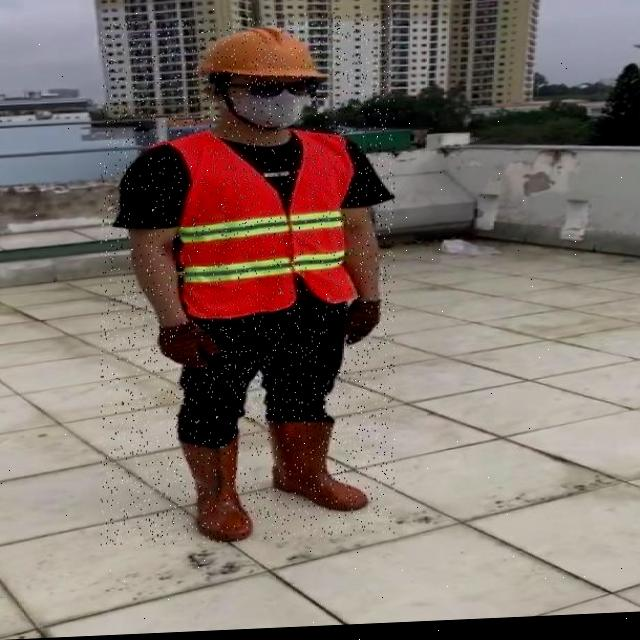Gloves: (159, 320, 223, 373), (344, 301, 382, 348)
Helmet: (200, 25, 330, 87)
Safety-Boot: (270, 415, 369, 516), (181, 428, 254, 544)
Safety-Vest: (150, 126, 360, 324)
